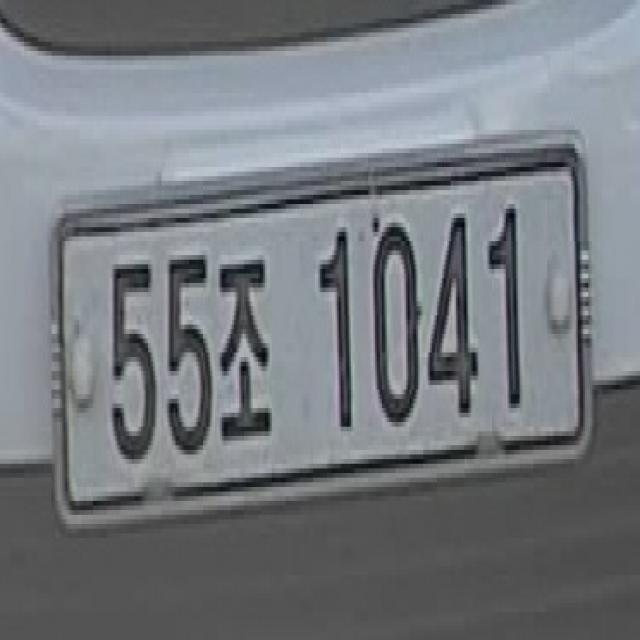0: (366, 212, 423, 430)
1: (312, 212, 360, 439), (483, 190, 530, 412)
4: (426, 202, 480, 434)
5: (106, 244, 158, 466), (164, 239, 214, 457)
jo: (217, 238, 274, 448)
license_plate: (43, 110, 606, 556)
